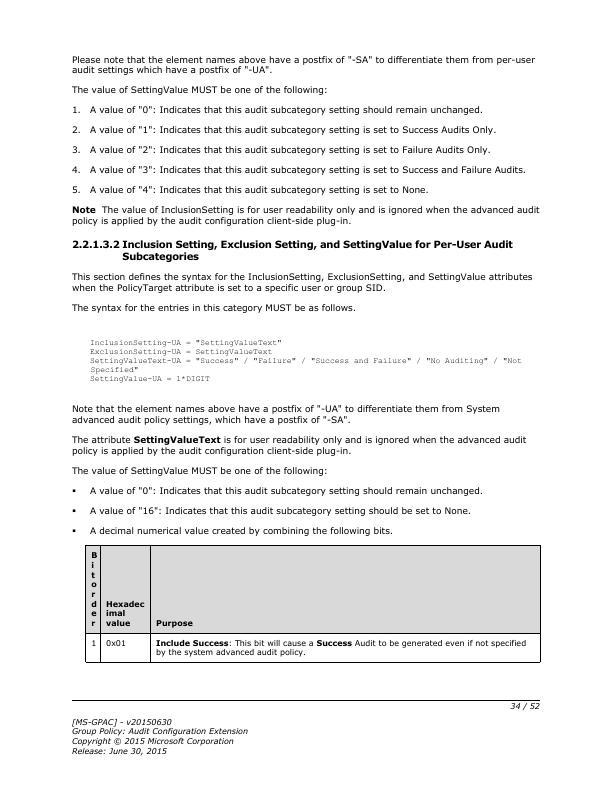table: (83, 543, 543, 665)
text: (86, 335, 524, 387), (69, 236, 516, 264), (70, 432, 529, 458), (70, 269, 536, 294), (68, 203, 542, 227), (68, 53, 537, 76), (70, 401, 502, 425), (68, 713, 251, 760), (68, 141, 494, 157), (69, 163, 527, 177), (68, 102, 487, 117), (70, 122, 500, 136), (86, 484, 487, 497), (88, 504, 473, 517), (69, 182, 432, 195), (68, 300, 356, 315), (87, 523, 395, 537), (68, 81, 332, 97), (70, 463, 332, 479)
